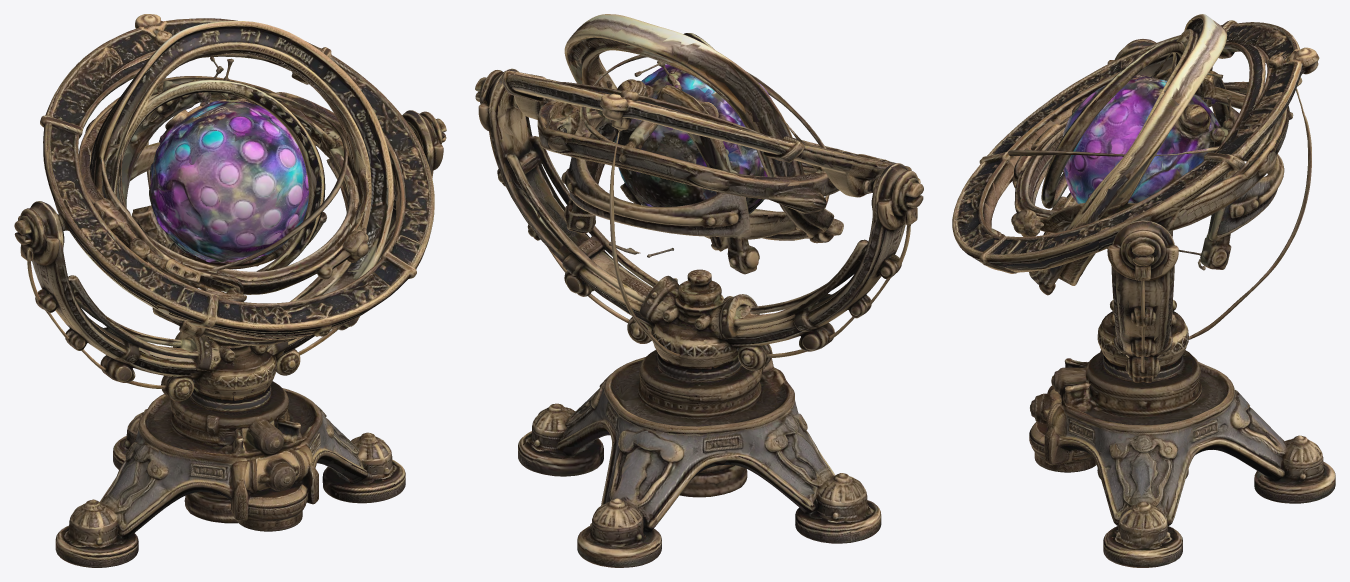
The model's file is Celestial_Armillary.glb.
3 views of the same model, side by side, from view 1: azimuth 30°, elevation 25°; view 2: azimuth 150°, elevation 25°; view 3: azimuth 270°, elevation 25° (orthographic). The views are drawn at different scales.
Visible parts, largest first — view 1: Celestial_Armillary; view 2: Celestial_Armillary; view 3: Celestial_Armillary.
Boxes of the visible parts, box(x1,y1,x2,y2) form: Celestial_Armillary: box(14, 14, 446, 567); Celestial_Armillary: box(475, 14, 923, 567); Celestial_Armillary: box(952, 14, 1335, 567).
Bounding box in the file's own units: 1.79 × 1.9 × 1.42.
1 material, 1 textured.
